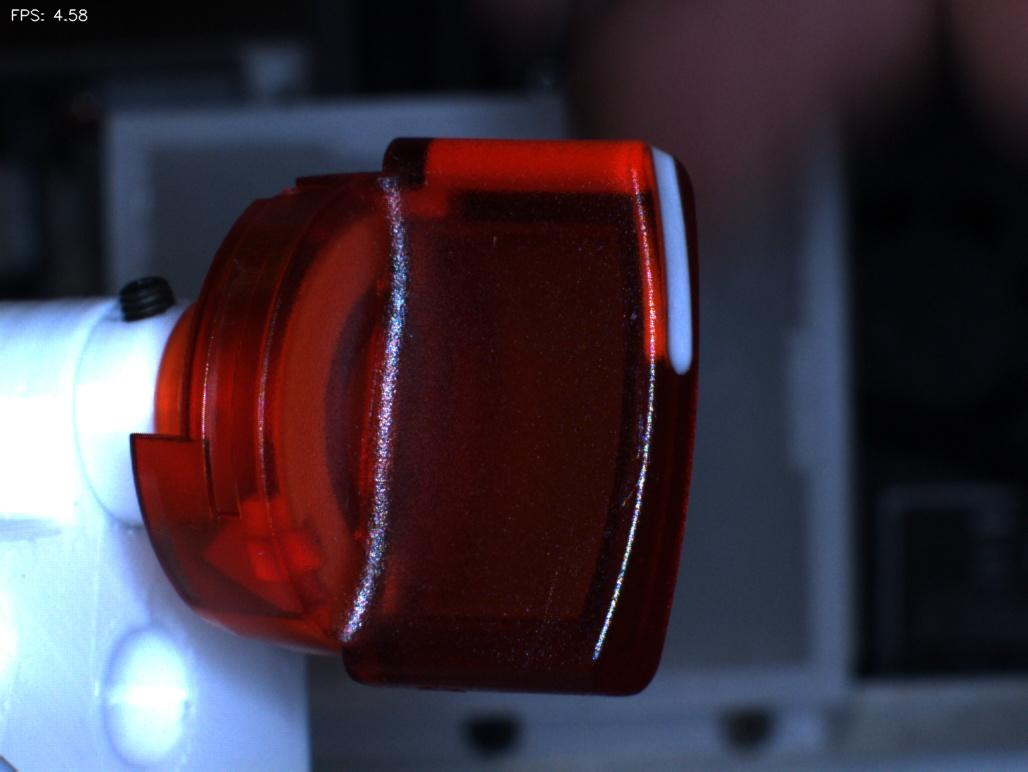Givrage: (596, 376, 667, 515), (506, 550, 582, 662)
